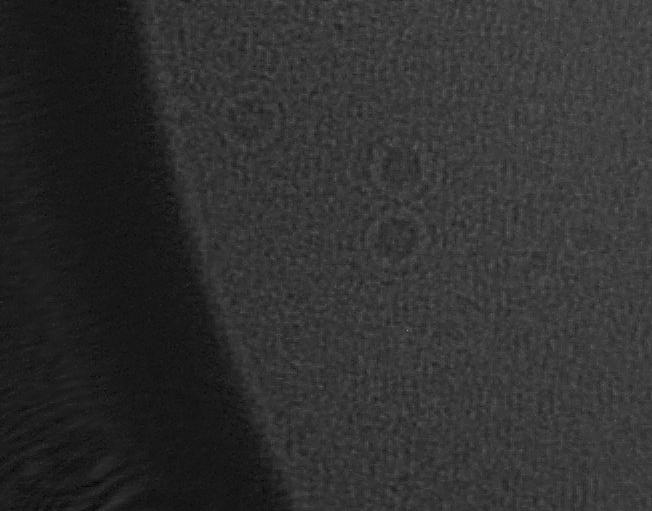bead: (352, 199, 447, 291), (206, 74, 297, 161), (350, 127, 448, 207)
